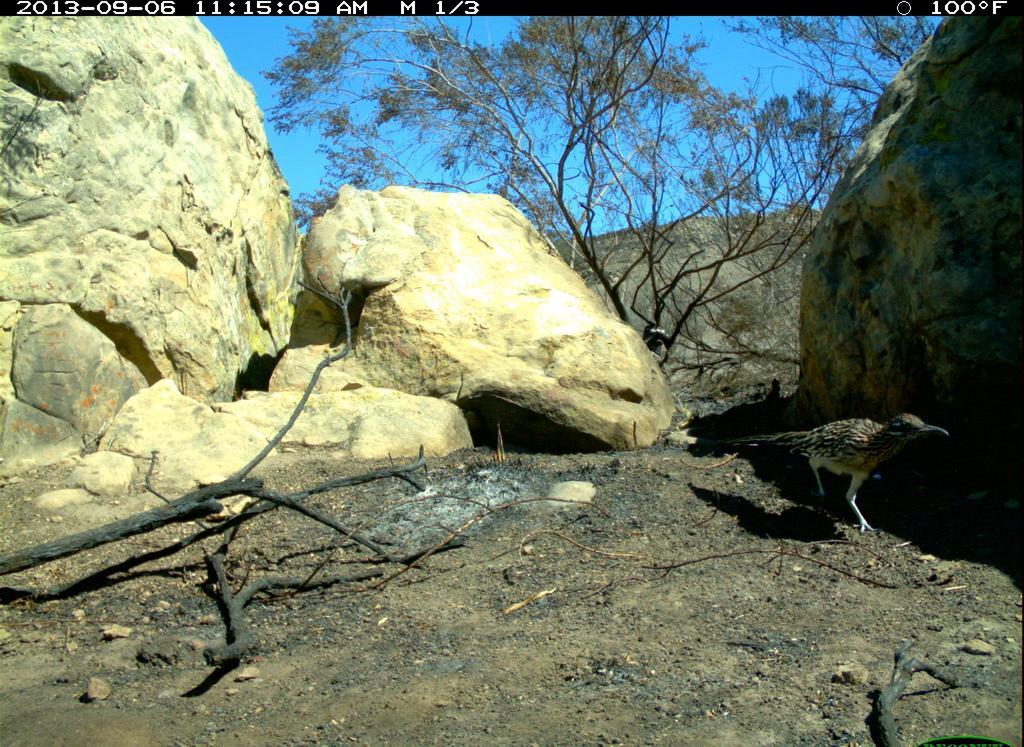bird: (702, 410, 957, 542)
